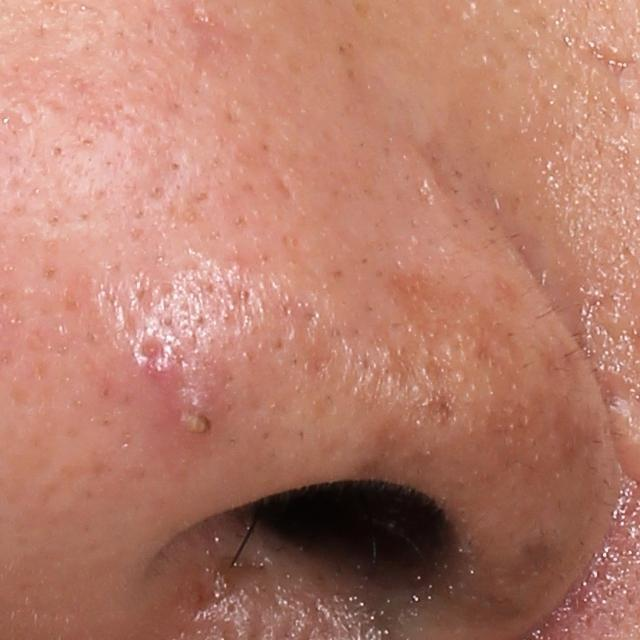atrophic_scar: (216, 269, 271, 336), (127, 267, 175, 314), (271, 164, 296, 206)
pustule: (169, 387, 222, 444)
